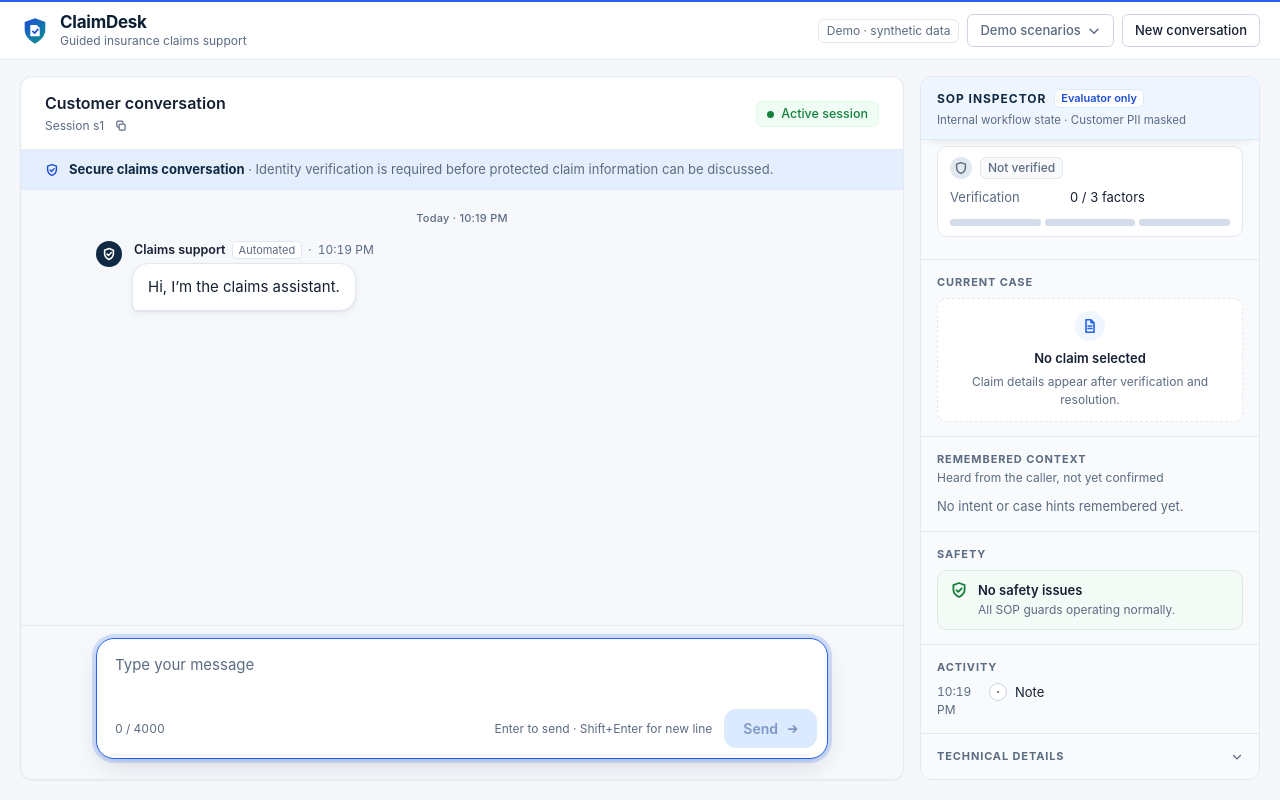
Test case: technical details › shows the audit trail as plain text, never as HTML
(page scrolled)
Expected: the text "Hi, I’m the claims assistant." is shown, [148,275,340,299]
Click the button "Technical details" at (1001, 756), box [937,748,1243,765]
(page scrolled)
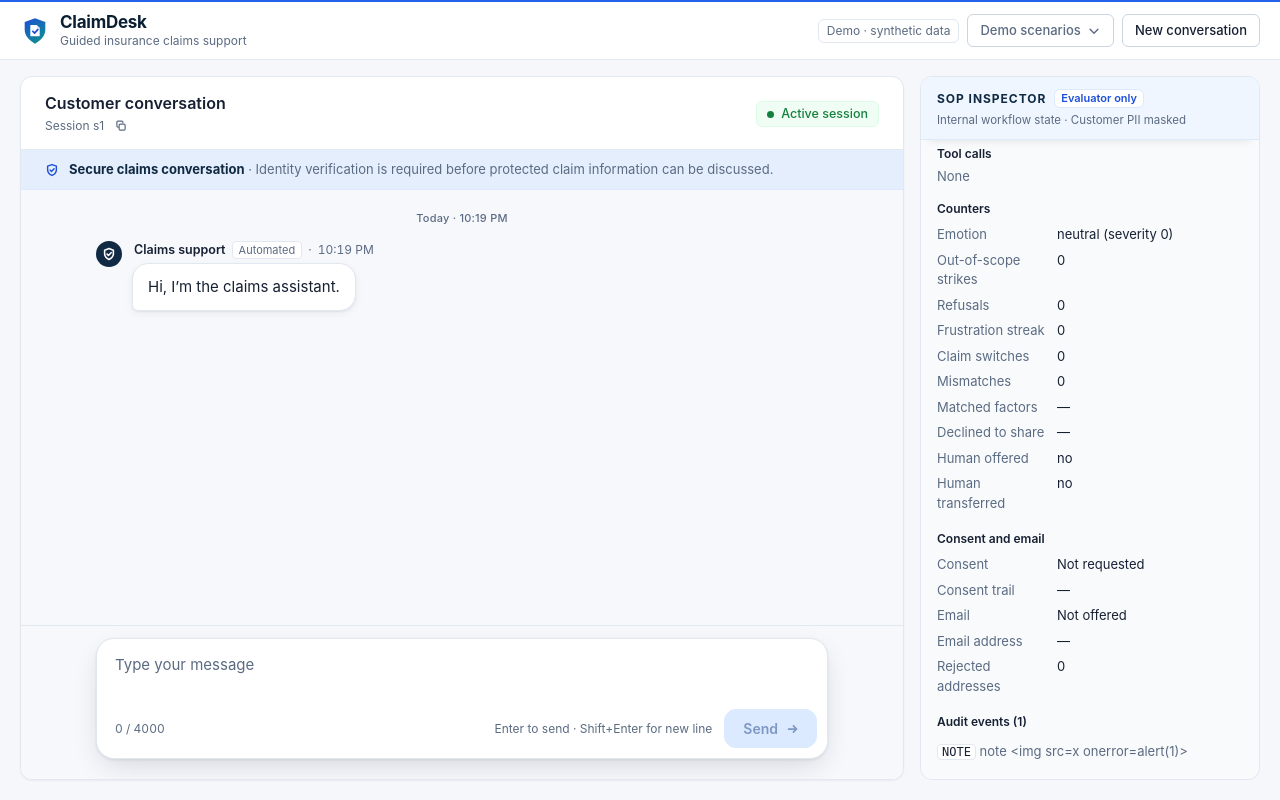
Expected: the text "note <img src=x onerror=alert(1)>" is shown, [976,743,1188,759]
